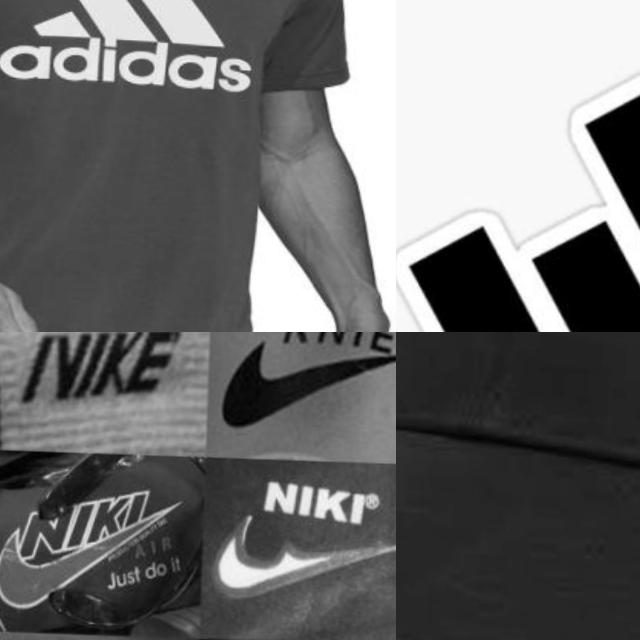ADIDAS_fake: (396, 1, 640, 332)
ADIDAS_original: (0, 0, 272, 112)
NIKE_fake: (0, 480, 196, 623), (214, 463, 396, 611), (214, 332, 396, 434), (13, 332, 184, 415)
